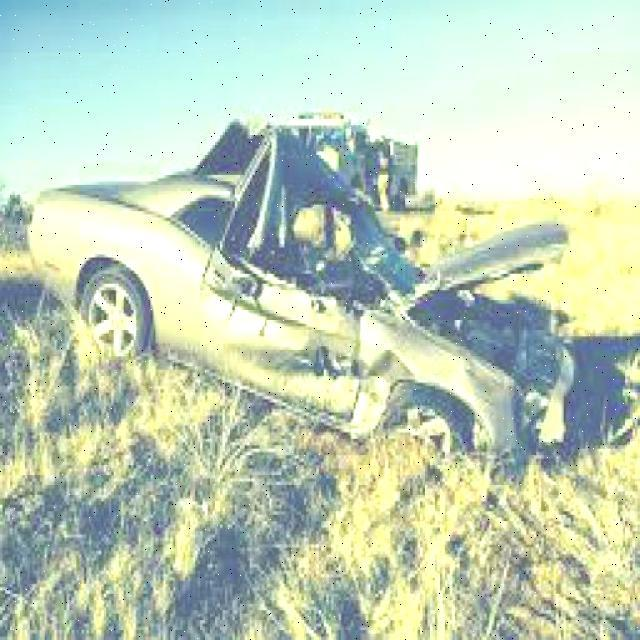car damage: (202, 123, 577, 462)
